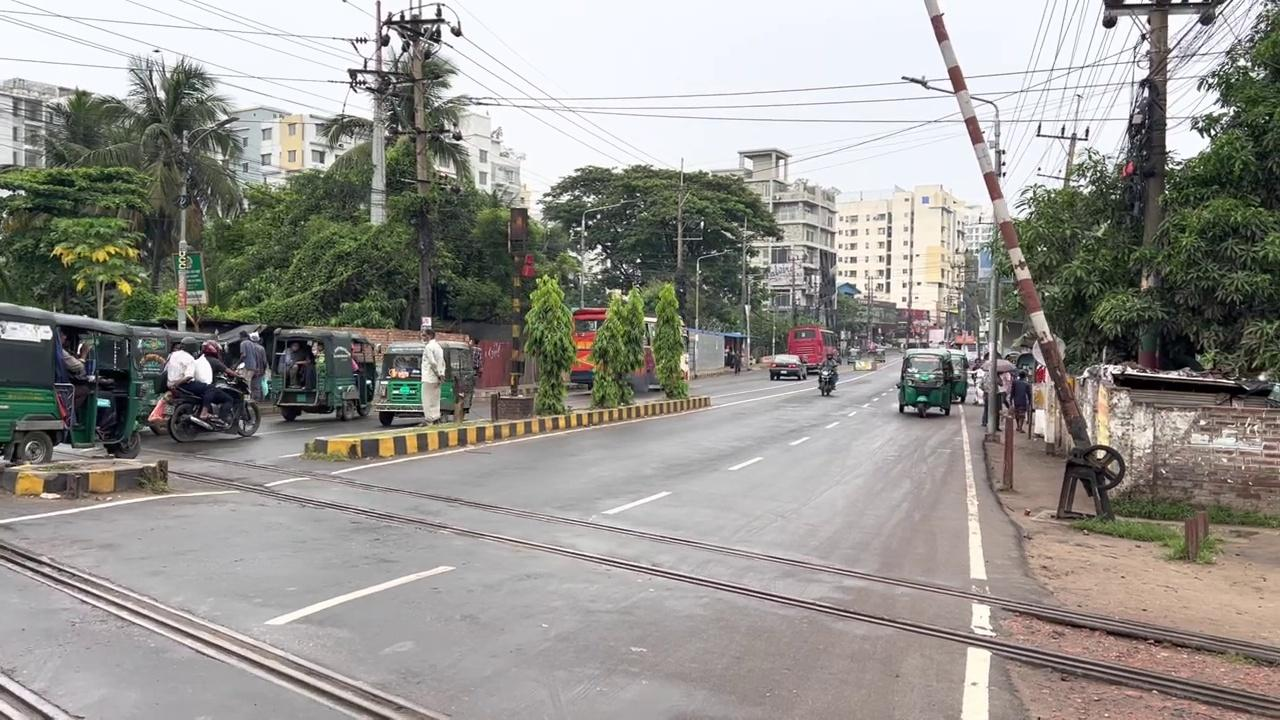Bollard: (768, 353, 807, 380)
Car: (303, 392, 712, 460)
Curb: (163, 363, 260, 442), (817, 364, 837, 396)
Fence: (419, 328, 445, 425), (818, 350, 839, 388)
Garbage: (923, 0, 1115, 518), (1135, 6, 1169, 371), (409, 23, 434, 328), (368, 1, 388, 226)
Motorcycle: (250, 470, 986, 720)
Pole: (507, 206, 527, 253)
Railroad-crossing: (45, 49, 250, 327), (521, 273, 577, 415), (587, 285, 646, 408), (651, 281, 689, 399)
Rickshaw: (0, 301, 145, 464), (787, 325, 840, 372)
